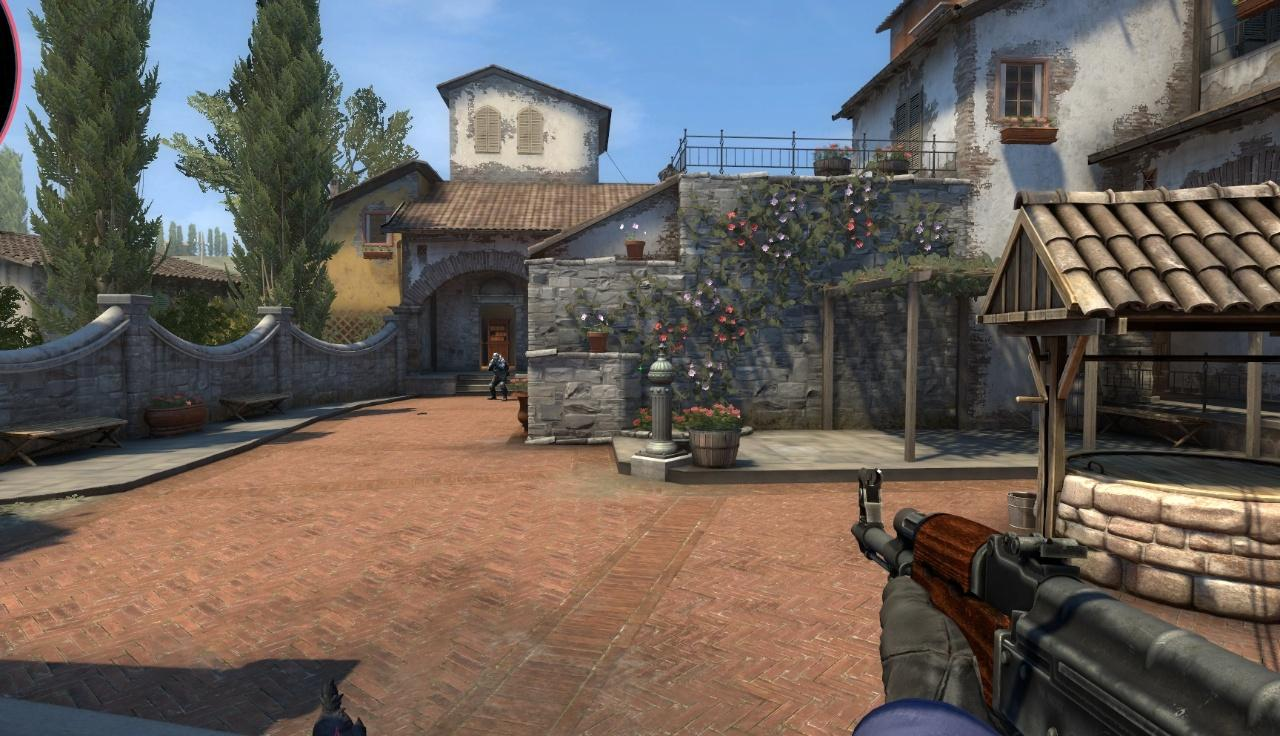ct: (486, 352, 511, 400)
cthead: (492, 353, 500, 361)
rifle: (855, 477, 1280, 732)
